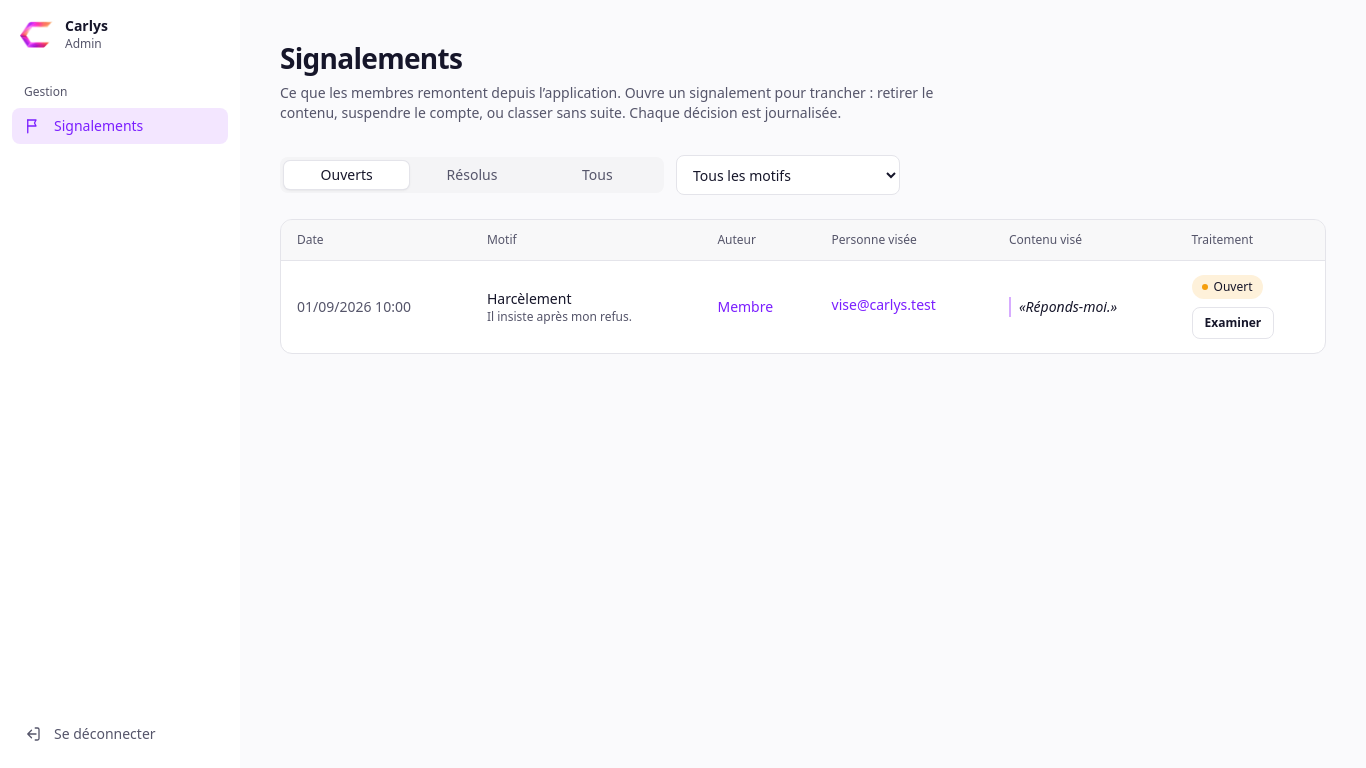
it: Page Signalements › décision › retirer le contenu et suspendre, avec la note exigée pour la suspension
Later steps or results of the test are not shown.
What coordinates should you click on to do the following:
click the button "Examiner"
I would click on:
 (1233, 323)
Its box is [1192, 307, 1274, 339].
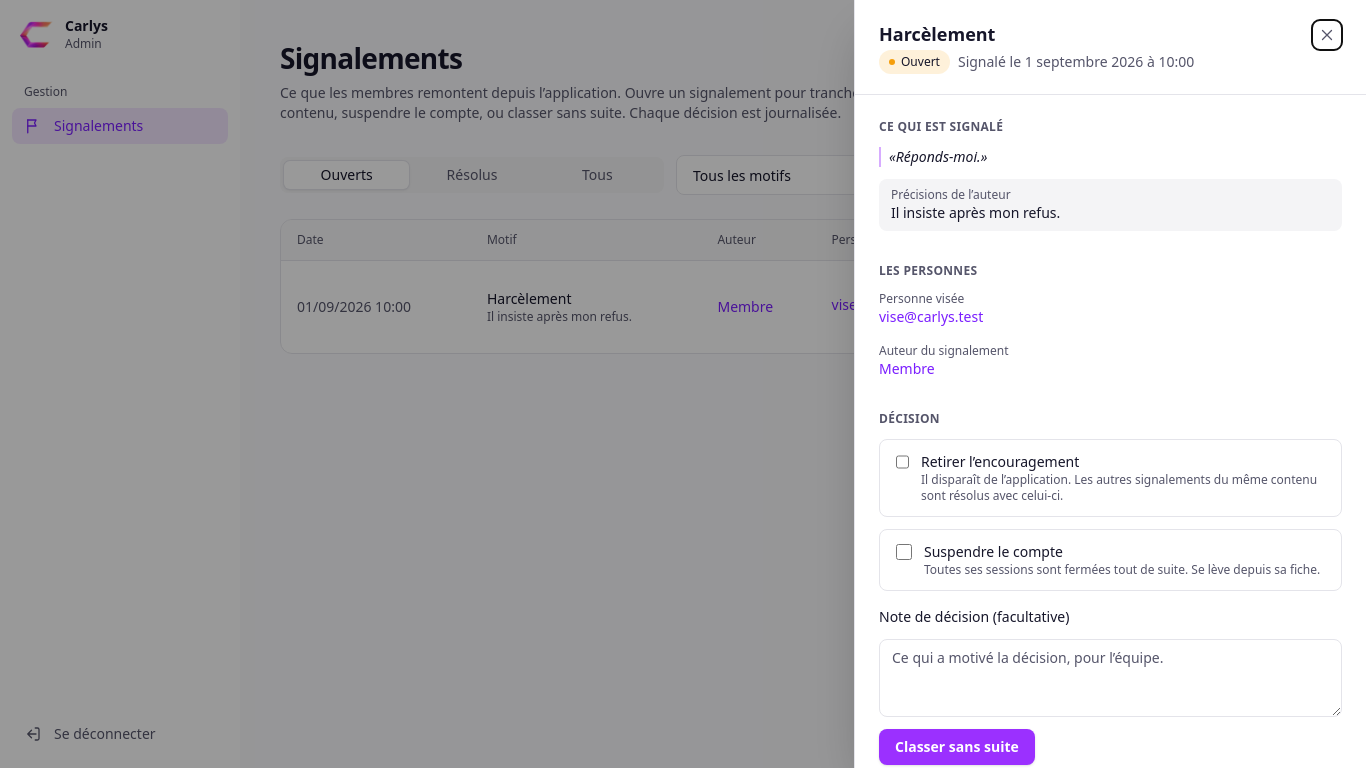
What coordinates should you click on to do the following:
click the checkbox labelled "Retirer l’encouragement"
I would click on:
 (902, 462)
Its box is [896, 454, 909, 470].
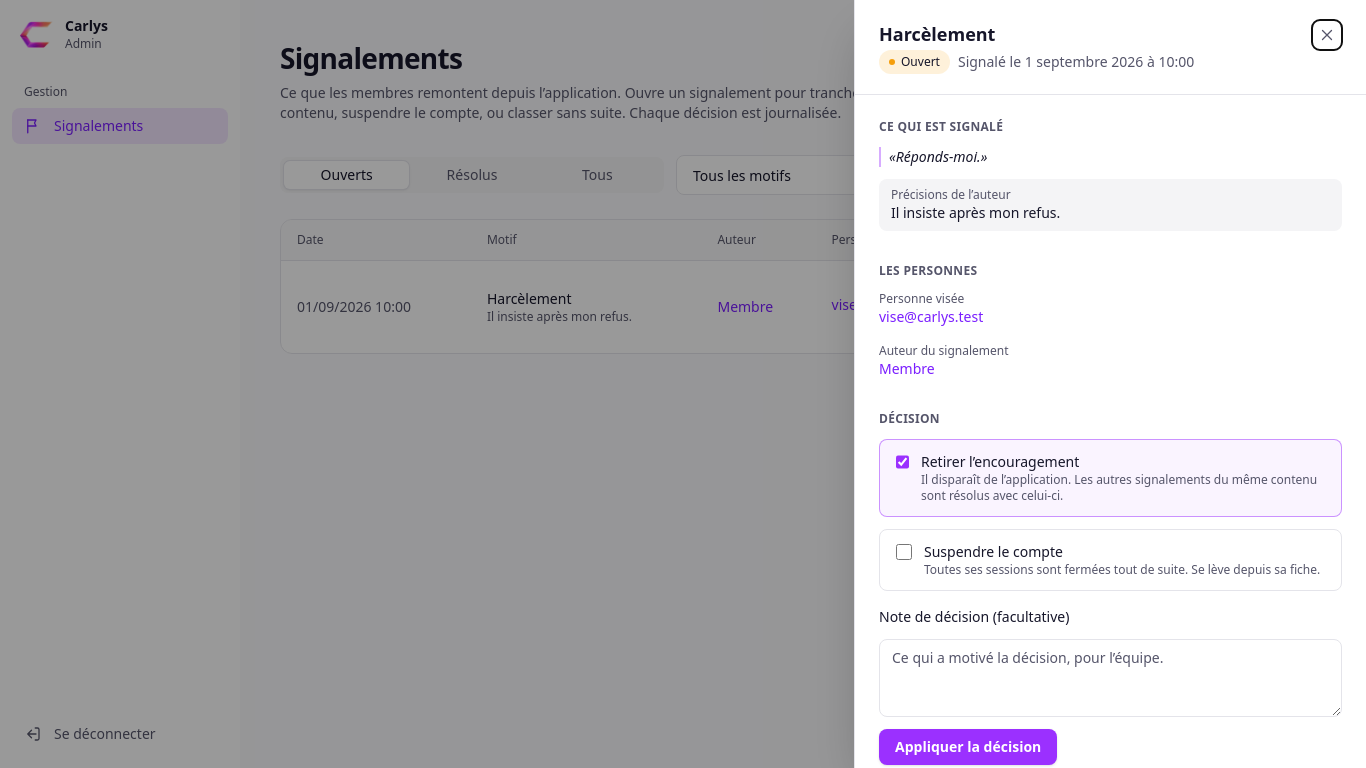
What coordinates should you click on to do the following:
click the checkbox labelled "Suspendre le compte"
I would click on:
 (904, 552)
Its box is [896, 544, 912, 560].
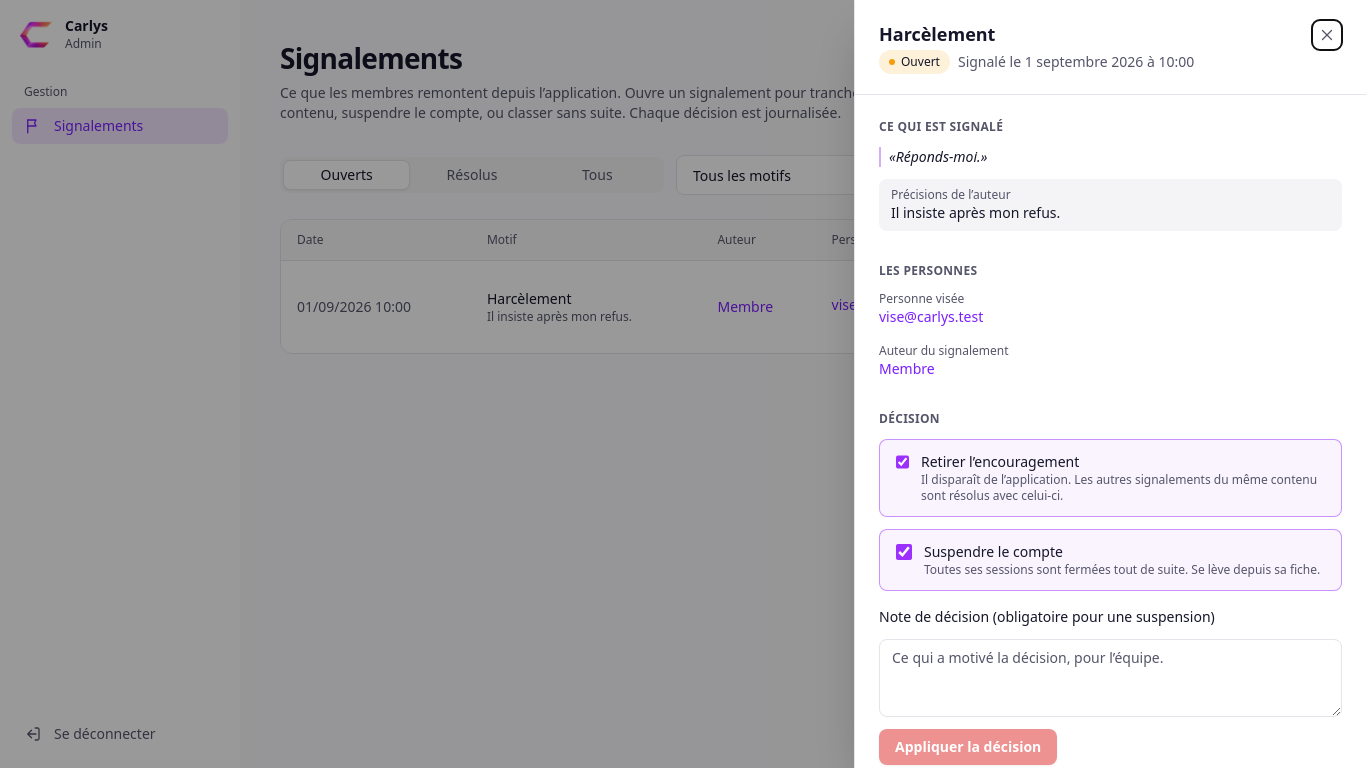
Check: the button "Appliquer la décision" is disabled, box [879, 729, 1057, 765]
